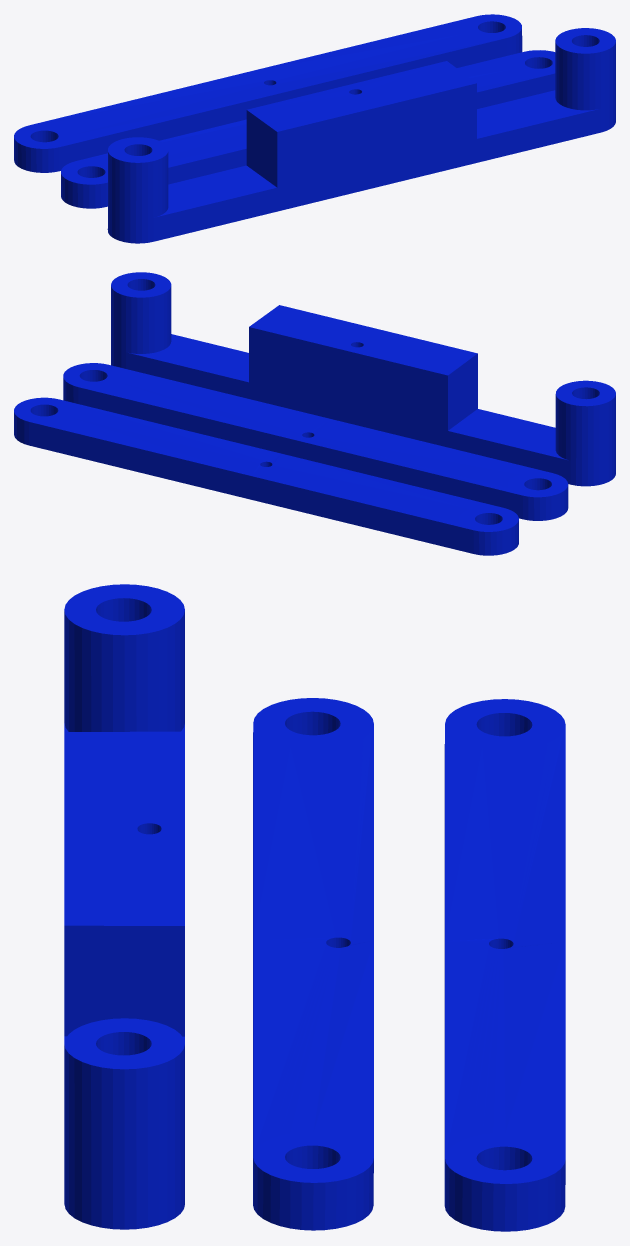
The model's file is rods5.glb.
3 views of the same model, one above another, from view 1: azimuth 30°, elevation 25°; view 2: azimuth 150°, elevation 25°; view 3: azimuth 270°, elevation 25° (orthographic). The views are drawn at different scales.
Parts seen in each view (by area): view 1: SteeringRods; view 2: SteeringRods; view 3: SteeringRods.
Boxes of the visible parts, x1,y1,x2,y2 form: SteeringRods: (14,14,615,243); SteeringRods: (14,272,615,555); SteeringRods: (64,584,565,1231).
Size of the model in its own units: 7.93 by 1.22 by 3.45.
